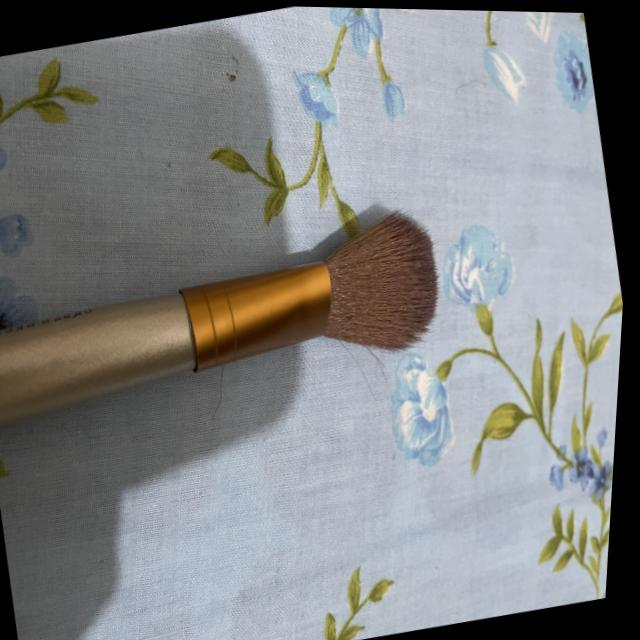brush: (0, 173, 477, 454)
